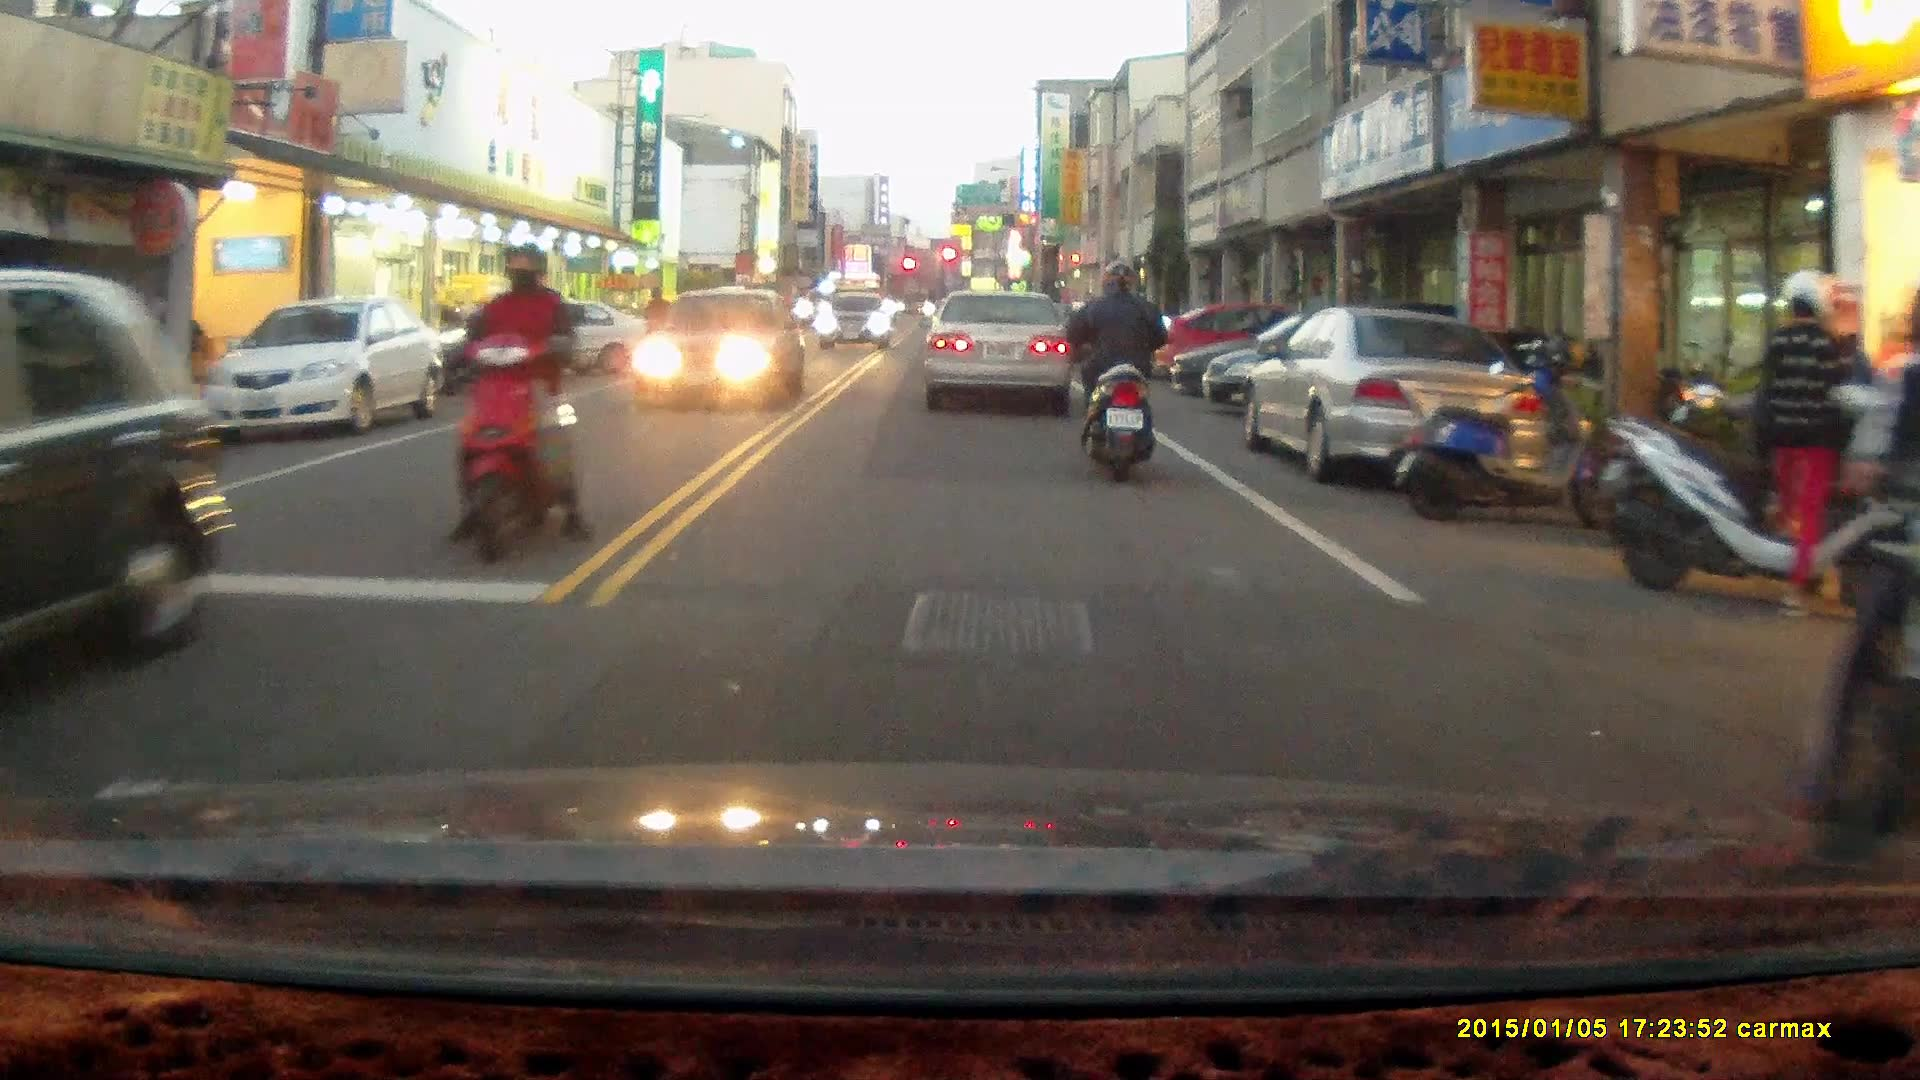pedestrian: (1758, 264, 1857, 618), (640, 284, 671, 353)
rider: (1798, 293, 1920, 859), (433, 242, 593, 560), (1059, 254, 1172, 479)
vehicle: (1, 273, 240, 697), (1234, 303, 1548, 485), (200, 290, 451, 439), (634, 282, 804, 406), (919, 288, 1074, 412), (1148, 294, 1368, 380), (814, 285, 893, 346)
